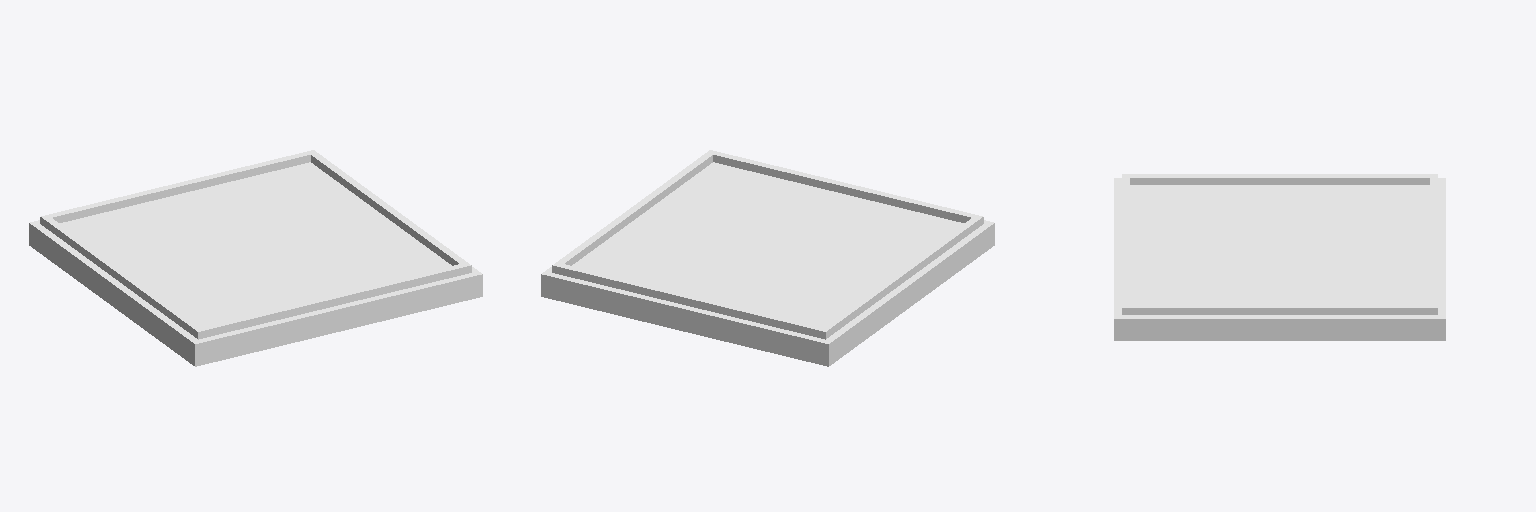
Rendered from battleTable.obj.
The picture shows the model from 3 angles: view 1: azimuth 30°, elevation 25°; view 2: azimuth 150°, elevation 25°; view 3: azimuth 270°, elevation 25°; orthographic projection.
Parts seen in each view (by area): view 1: object 1; view 2: object 1; view 3: object 1.
Boxes of the visible parts, x1=… form: object 1: x1=29, y1=150, x2=482, y2=366; object 1: x1=541, y1=150, x2=994, y2=366; object 1: x1=1114, y1=174, x2=1445, y2=340.
Size of the model in its own units: 4 by 0.4 by 4.